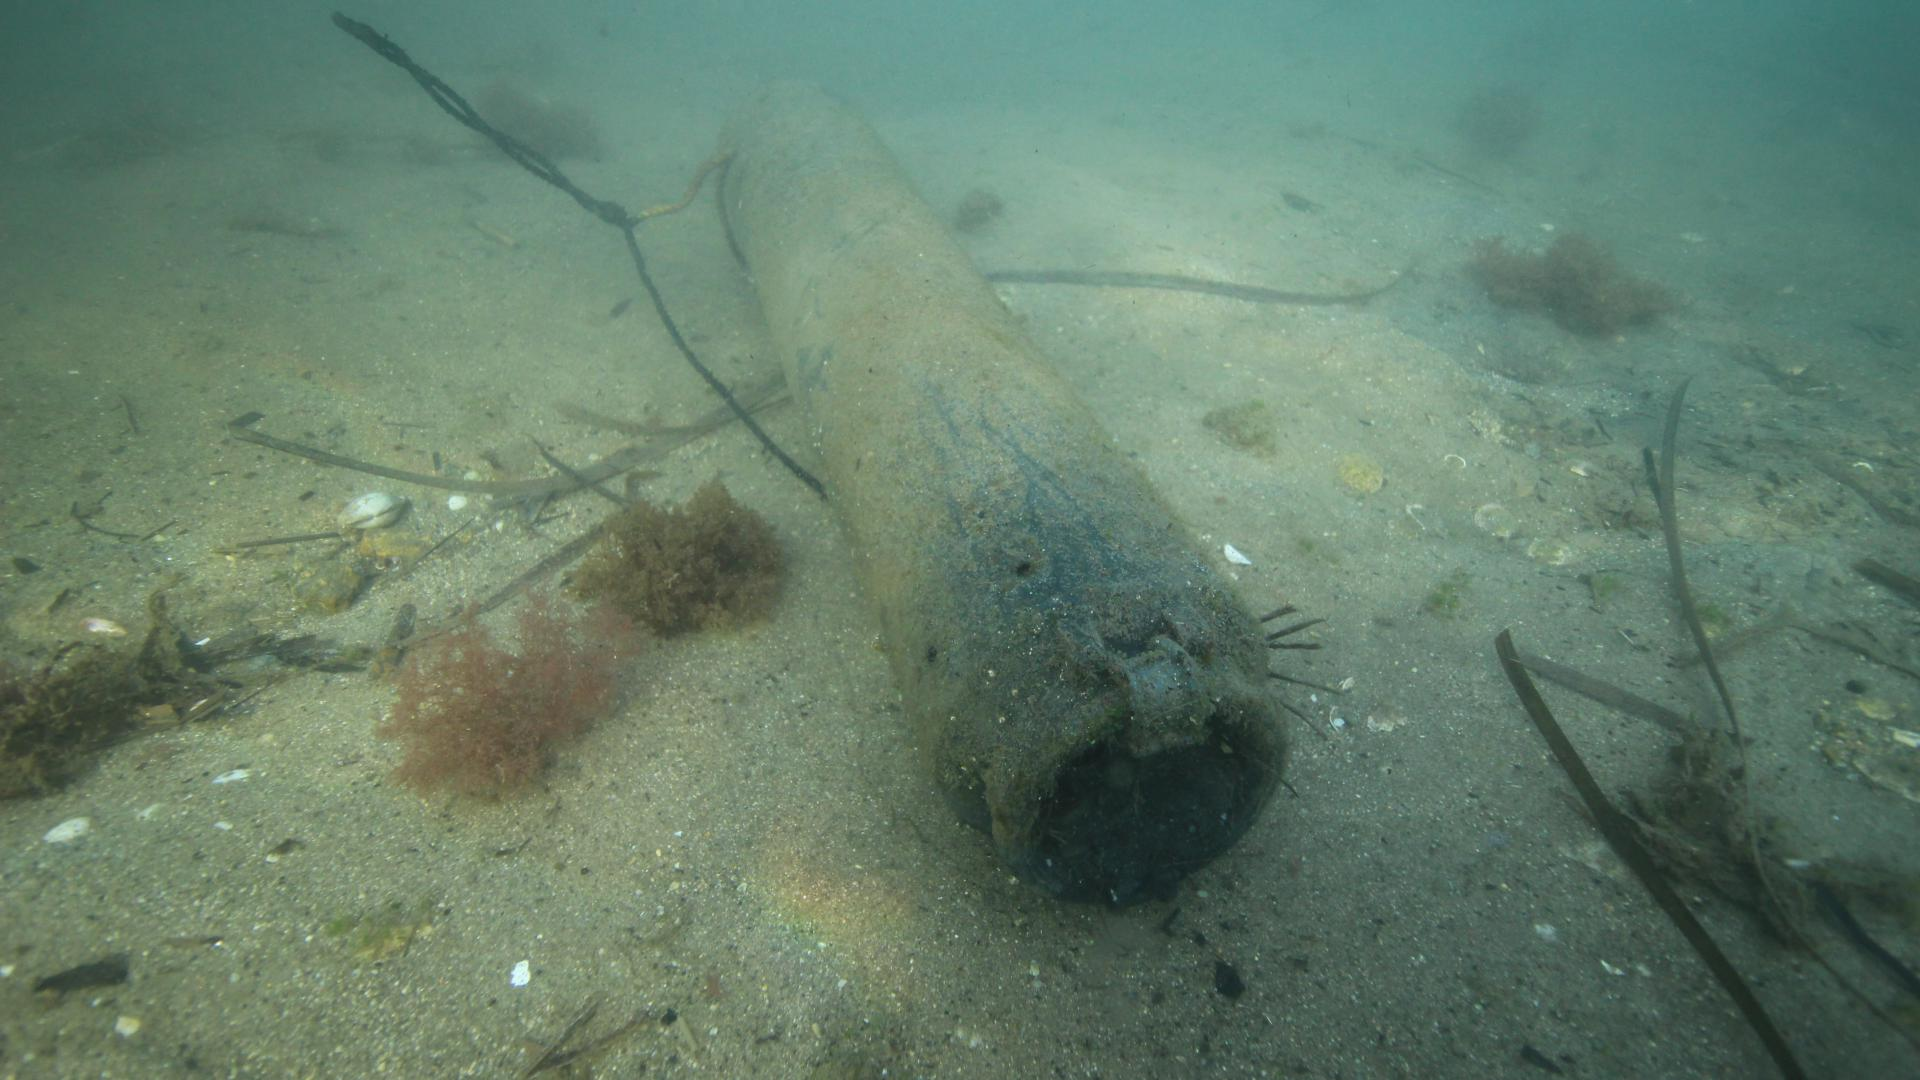eel fish trap: (716, 80, 1287, 907)
rope: (328, 8, 829, 498)
